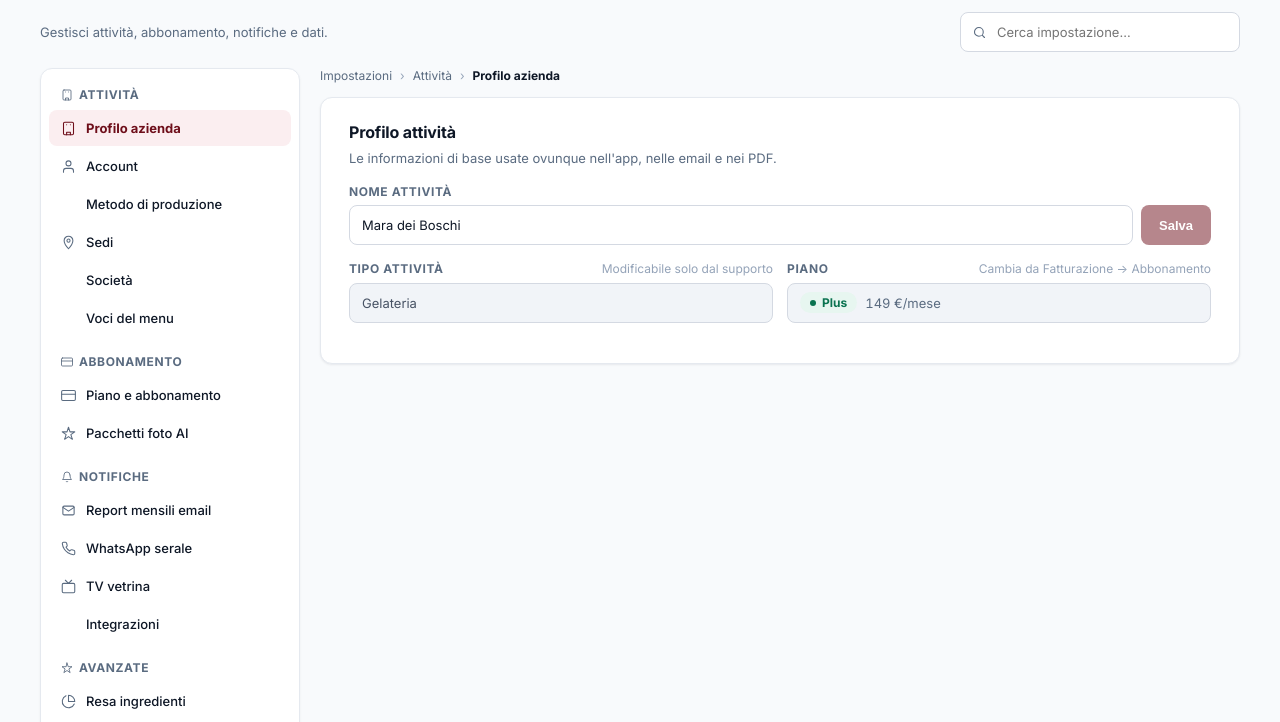
Test: Impostazioni · metodo di produzione › una richiesta già in attesa si vede come banner
The width and height of the screenshot is (1280, 722).
Click the button "Metodo di produzione". click: (170, 204)
box: [49,186,291,222]
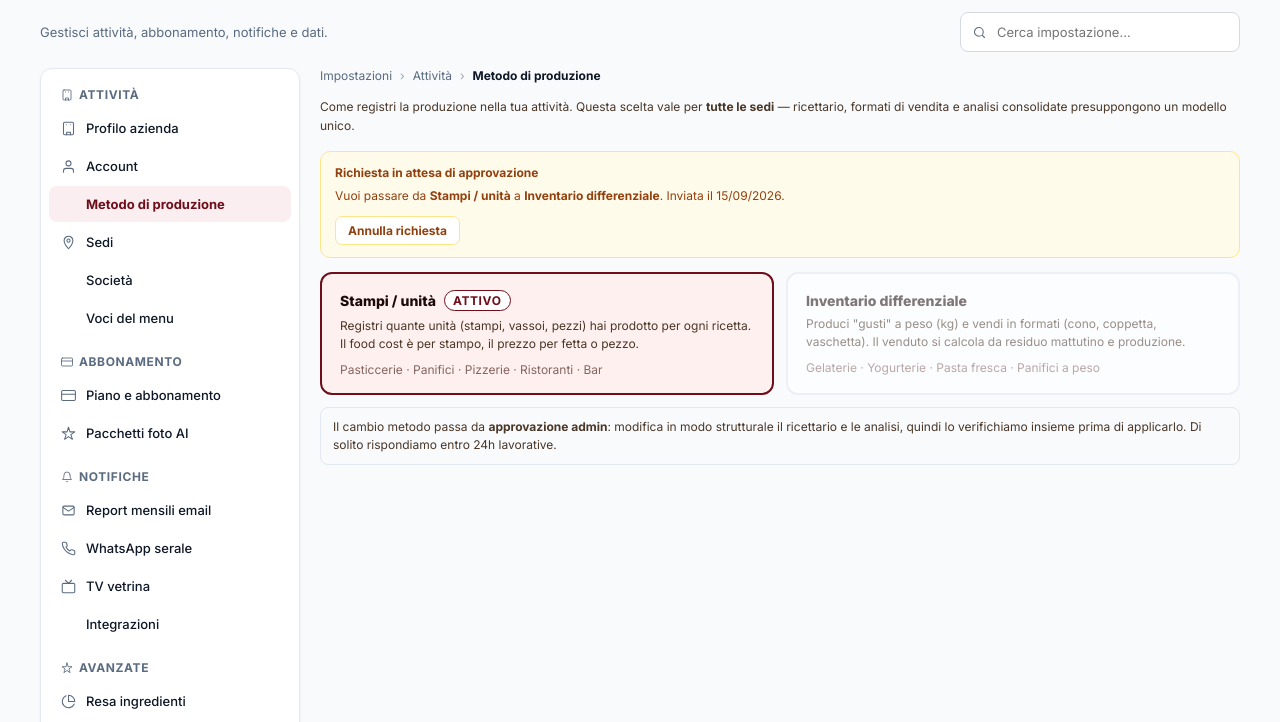
Now the text "Richiesta in attesa di approvazione" is shown, box [335,165,538,180]
Now the text "15/09/2026" is shown, box [663,188,785,203]
